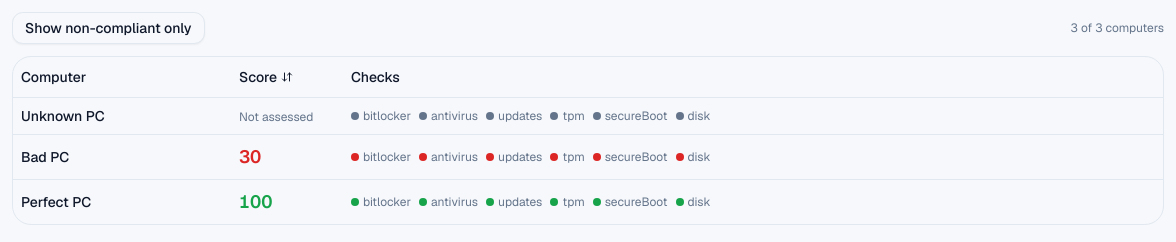
Scenario: ComplianceFleet › the non-compliant filter hides a perfect (100) computer
Click the button "Show non-compliant only" at (108, 28), box left=12, top=12, right=204, bottom=44
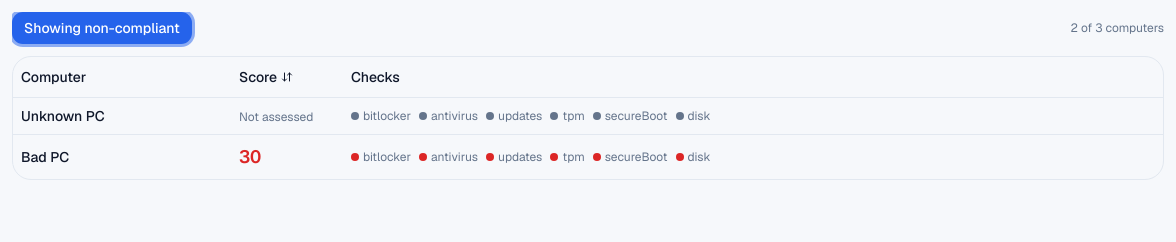
Expected: the link "Bad PC" is shown, left=21, top=148, right=69, bottom=166
Expected: the link "Perfect PC" is gone
Expected: the text "2 of 3 computers" is shown, left=1070, top=20, right=1164, bottom=36
